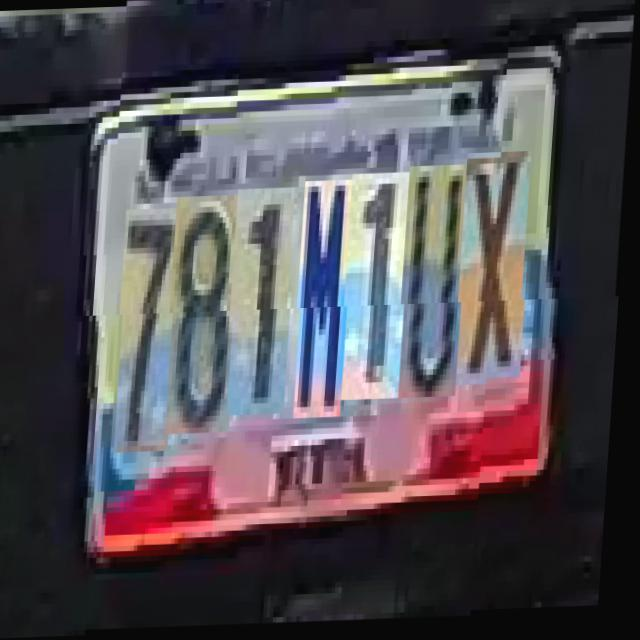1: (348, 175, 422, 403), (232, 190, 301, 418)
7: (120, 209, 186, 454)
8: (171, 197, 247, 436)
M: (299, 182, 358, 420)
U: (404, 168, 473, 402)
X: (462, 160, 537, 388)
